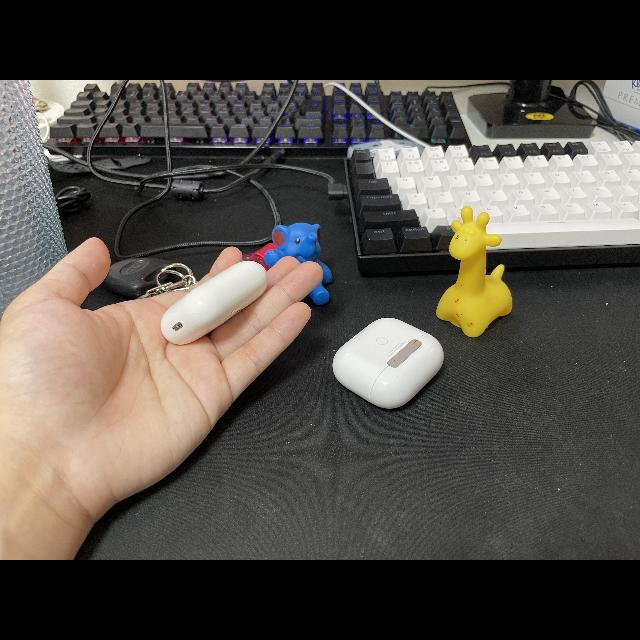airpod2: (154, 250, 268, 348)
airpod3: (327, 312, 453, 413)
